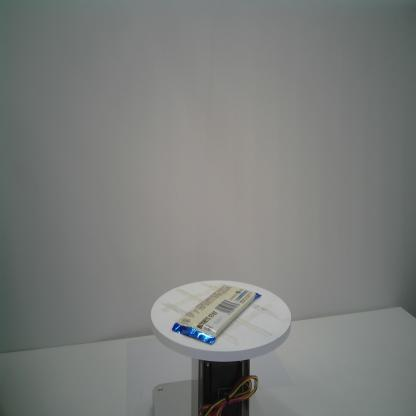Chocolate: (171, 284, 263, 345)
